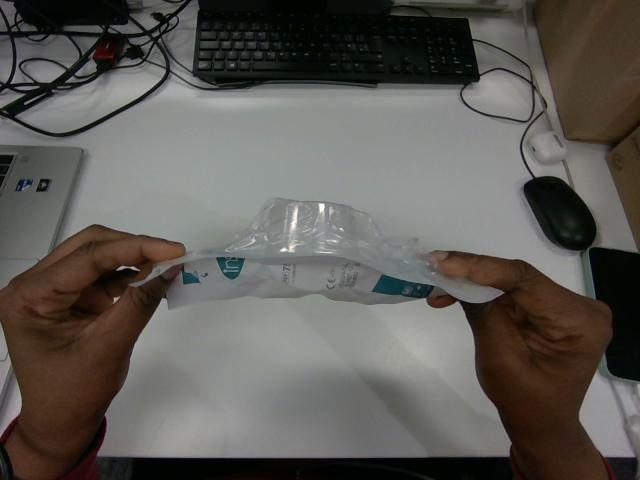gallipot: (134, 198, 501, 308)
